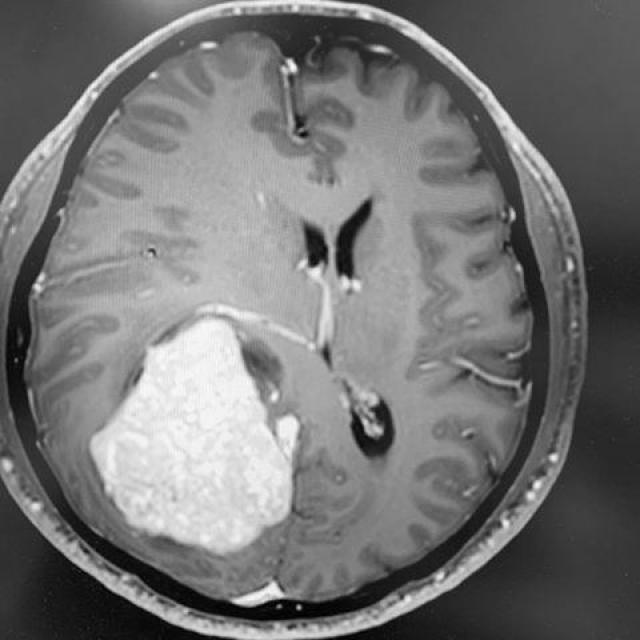Tumor: (91, 322, 309, 566)
